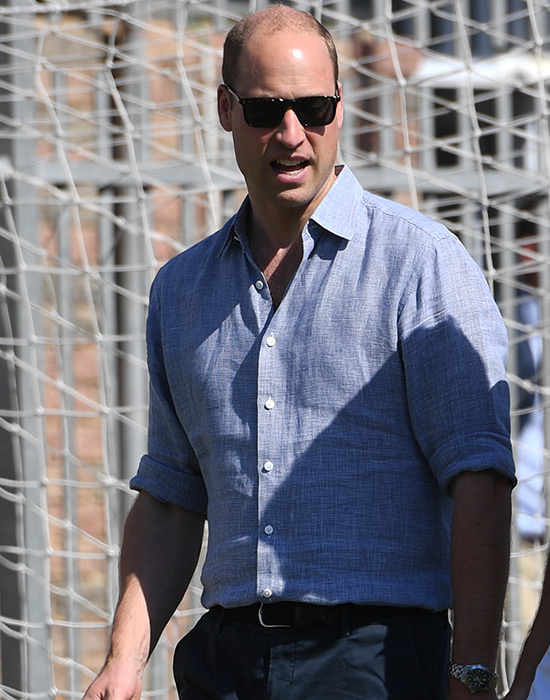sunglasses: (232, 95, 340, 128)
